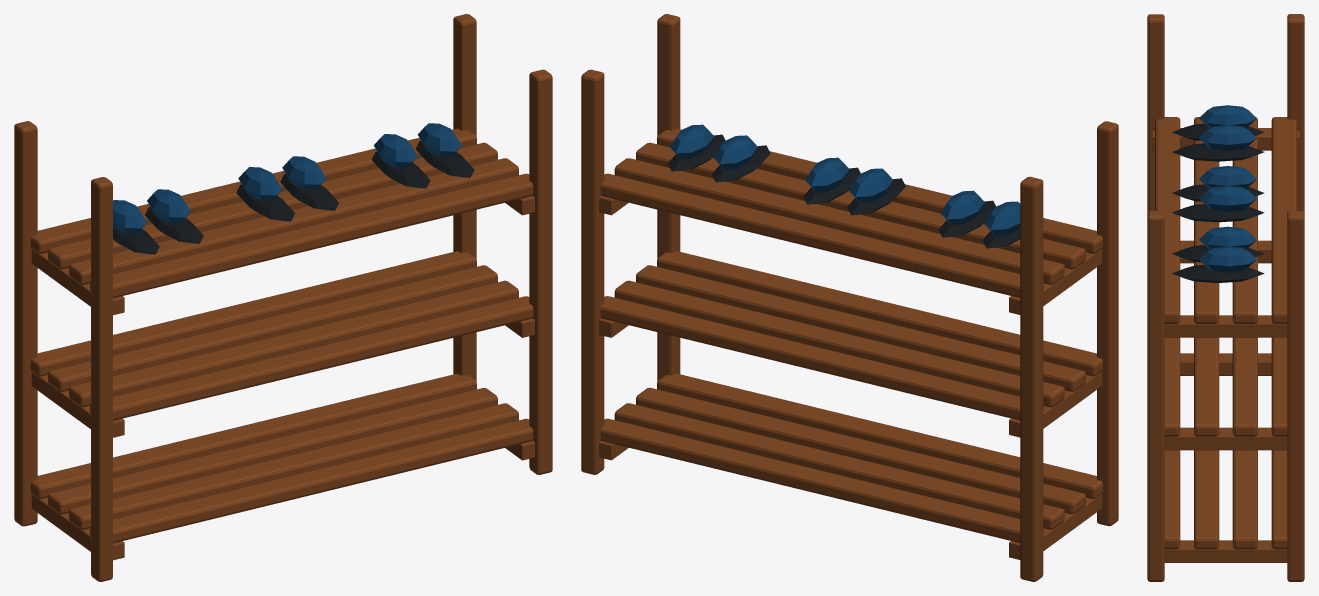
Rendered from edited.glb.
3 renders of one model, left to right at view 1: azimuth 30°, elevation 25°; view 2: azimuth 150°, elevation 25°; view 3: azimuth 270°, elevation 25°, orthographic. The views are drawn at different scales.
Parts seen in each view (by area): view 1: SHELF_Group.002, SHELF_Group.001, SHELF_Group, FRAME_Post.002, FRAME_Post.001, FRAME_Post, FRAME_Post.003, SHELF_Bracket.004, SHELF_Bracket, SHELF_Bracket.002, SHOE_Upper.004, SHOE_Upper.003 (+10 smaller); view 2: SHELF_Group.001, SHELF_Group.002, SHELF_Group, FRAME_Post.001, FRAME_Post.003, FRAME_Post, FRAME_Post.002, SHELF_Bracket.002, SHELF_Bracket, SHELF_Bracket.004, SHOE_Upper.005, SHOE_Upper.004 (+9 smaller); view 3: SHELF_Group, SHELF_Group.002, SHELF_Group.001, FRAME_Post.002, FRAME_Post.003, FRAME_Post.001, FRAME_Post, SHELF_Bracket.003, SHELF_Bracket.005, SHELF_Bracket.001, SHOE_Upper.002, SHOE_Upper.004 (+13 smaller).
Part boxes in pixels (<box>): SHELF_Group.002: <box>30,251,533,420</box>; SHELF_Group.001: <box>30,373,533,543</box>; SHELF_Group: <box>30,128,533,298</box>; FRAME_Post.002: <box>529,69,552,474</box>; FRAME_Post.001: <box>14,121,37,526</box>; FRAME_Post: <box>91,177,112,581</box>; FRAME_Post.003: <box>453,14,476,381</box>; SHELF_Bracket.004: <box>31,249,124,315</box>; SHELF_Bracket: <box>31,494,124,560</box>; SHELF_Bracket.002: <box>31,371,124,437</box>; SHOE_Upper.004: <box>282,156,326,190</box>; SHOE_Upper.003: <box>238,167,282,200</box>; SHELF_Group.001: <box>600,373,1102,542</box>; SHELF_Group.002: <box>600,251,1102,420</box>; SHELF_Group: <box>600,128,1102,297</box>; FRAME_Post.001: <box>1020,176,1043,581</box>; FRAME_Post.003: <box>581,69,604,474</box>; FRAME_Post: <box>1097,121,1118,526</box>; FRAME_Post.002: <box>657,14,680,381</box>; SHELF_Bracket.002: <box>1009,371,1102,437</box>; SHELF_Bracket: <box>1009,494,1102,559</box>; SHELF_Bracket.004: <box>1009,249,1102,314</box>; SHOE_Upper.005: <box>714,135,757,169</box>; SHOE_Upper.004: <box>805,157,849,191</box>; SHELF_Group: <box>1155,117,1296,323</box>; SHELF_Group.002: <box>1164,337,1287,436</box>; SHELF_Group.001: <box>1164,450,1287,549</box>; FRAME_Post.002: <box>1147,211,1164,581</box>; FRAME_Post.003: <box>1287,211,1304,581</box>; FRAME_Post.001: <box>1287,14,1304,213</box>; FRAME_Post: <box>1147,14,1164,213</box>; SHELF_Bracket.003: <box>1164,427,1287,450</box>; SHELF_Bracket.005: <box>1164,315,1287,337</box>; SHELF_Bracket.001: <box>1164,540,1287,562</box>; SHOE_Upper.002: <box>1199,125,1256,150</box>; SHOE_Upper.004: <box>1199,185,1256,211</box>.
Size of the model in its own units: 1.25 by 1.04 by 0.405.
